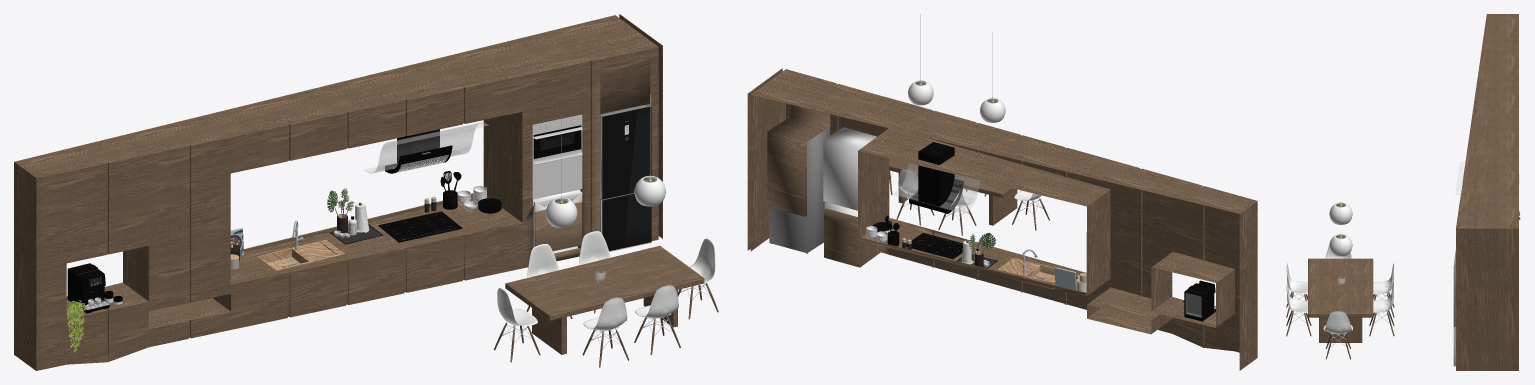
The model's file is apartamento-cozinha.glb.
3 renders of one model, left to right at view 1: azimuth 30°, elevation 25°; view 2: azimuth 150°, elevation 25°; view 3: azimuth 270°, elevation 25°, orthographic. The views are drawn at different scales.
Parts seen in each view (by area): view 1: Plane.007, DiningTable.001, Refrigator.001, Oven.001, KDecor, Hood, Dishwasher.001, Coffee+Maker, Sink, Hobs.001, Flower; view 2: Plane.007, DiningTable.001, Hood, Refrigator.001, Oven.001, KDecor, Coffee+Maker, Sink, Hobs.001; view 3: Plane.007, DiningTable.001, Refrigator.001.
Boxes of the visible parts, x1,y1,x2,y2 form: Plane.007: (14,14,662,370); DiningTable.001: (494,94,718,367); Refrigator.001: (579,104,651,251); Oven.001: (532,114,582,199); KDecor: (104,171,501,304); Hood: (364,122,488,173); Dishwasher.001: (533,190,582,261); Coffee+Maker: (67,263,109,313); Sink: (256,220,344,270); Hobs.001: (378,211,462,242); Flower: (66,300,85,352); Plane.007: (747,68,1257,370); DiningTable.001: (889,14,1049,235); Hood: (893,142,979,213); Refrigator.001: (769,127,830,253); Oven.001: (823,127,876,210); KDecor: (866,215,1184,303); Coffee+Maker: (1184,280,1215,321); Sink: (997,249,1055,289); Hobs.001: (906,233,962,259); Plane.007: (1456,14,1518,370); DiningTable.001: (1286,202,1394,359); Refrigator.001: (1453,249,1455,366).
Size of the model in its own units: 9.76 by 3.55 by 4.48.
42 materials, 25 textured.
